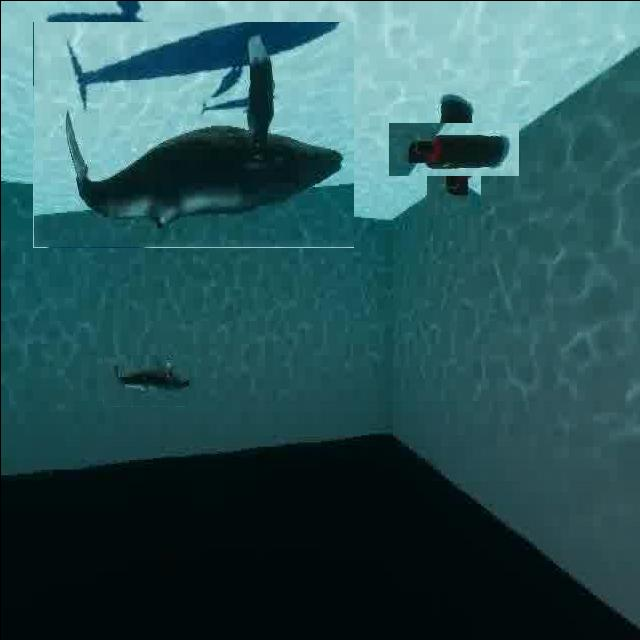Cylinder: (407, 103, 499, 195)
Whale: (32, 21, 353, 247), (102, 354, 197, 406)
